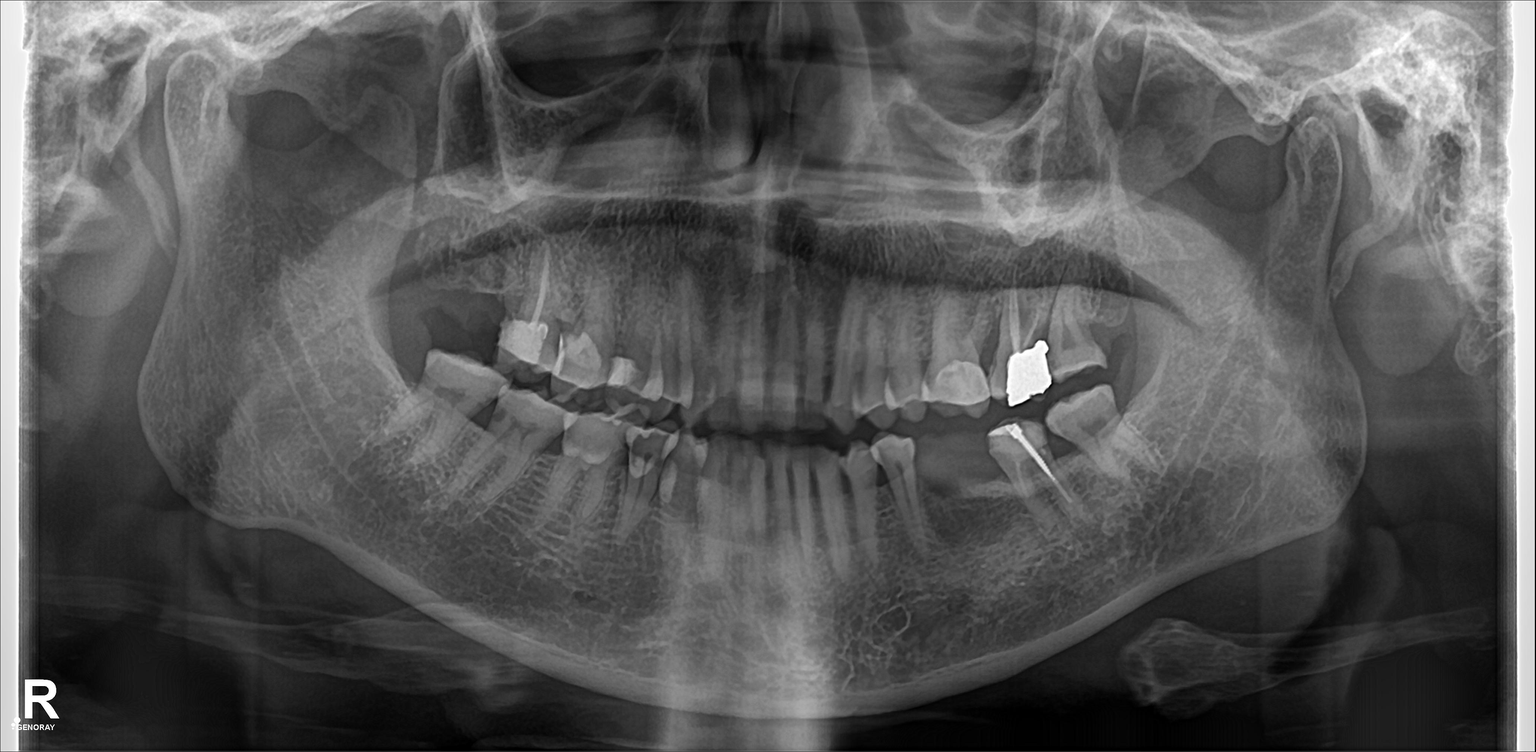Dental Caries: (626, 426, 678, 474)
Endodontically Treated Tooth: (1006, 424, 1074, 529), (929, 296, 988, 410), (499, 235, 550, 364), (1004, 283, 1049, 405)
Missing Tooth: (447, 225, 501, 332), (389, 229, 451, 320), (1091, 272, 1140, 372), (918, 445, 971, 532), (385, 322, 437, 405), (968, 434, 1009, 539)
